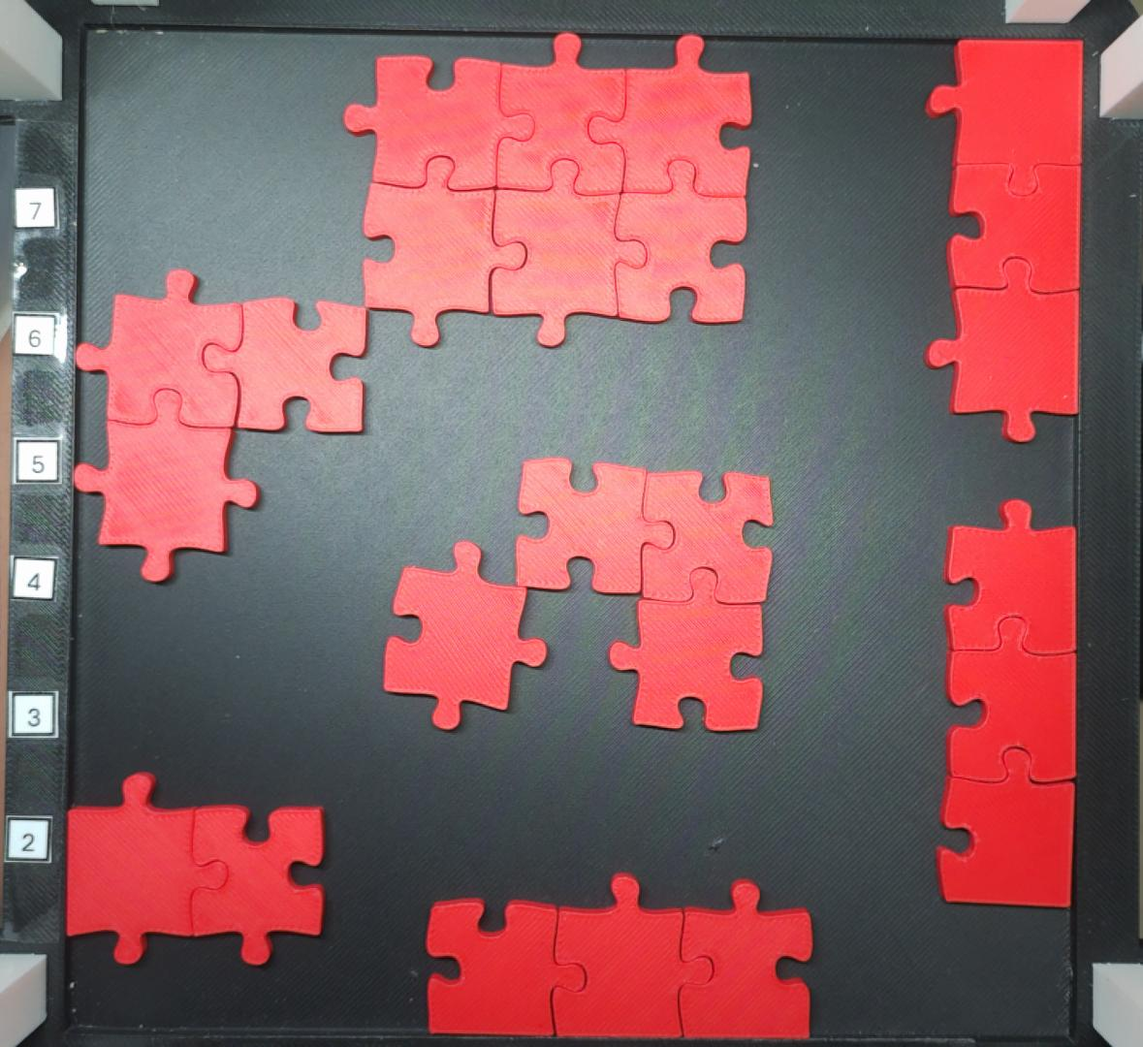p_1: (382, 540, 551, 732)
p_2: (64, 769, 327, 968)
p_3: (74, 269, 369, 584), (514, 456, 776, 733), (424, 871, 814, 1041), (924, 34, 1085, 445), (935, 497, 1080, 909)
p_m: (342, 33, 754, 349)
